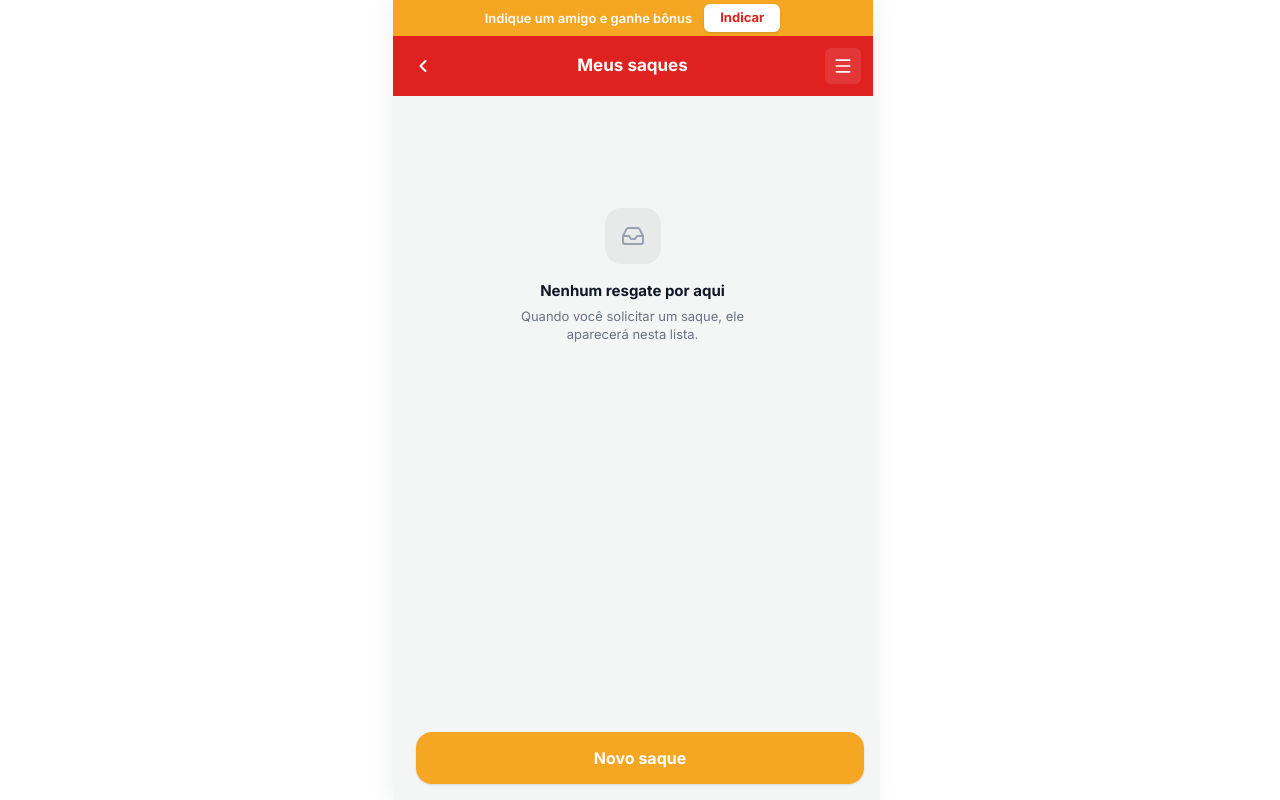
Test: Confirmar saque › falha UNAVAILABLE aparece no próprio diálogo, que segue aberto para tentar de novo
Click the button "Novo saque" at (640,758), box [416,732,864,784]
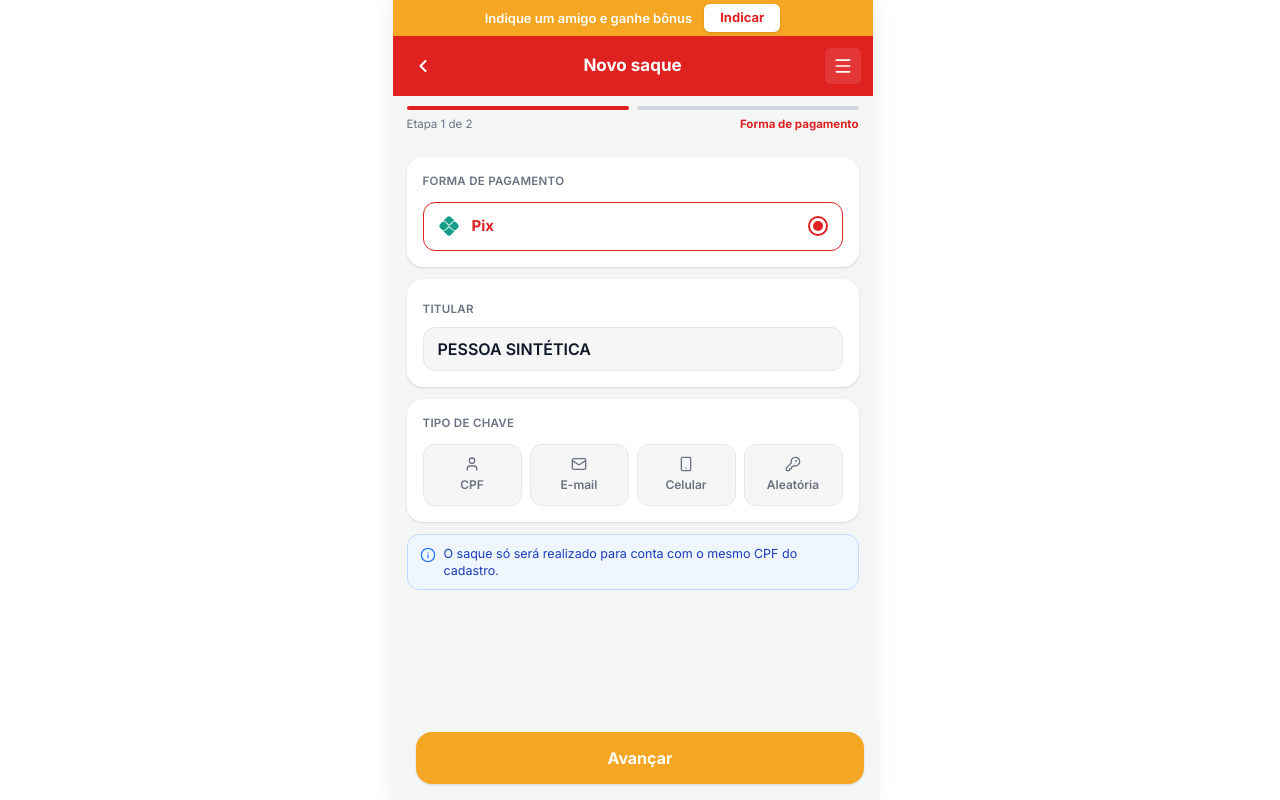
Click the radio button labelled "CPF" at (472,475), box [422,444,522,506]
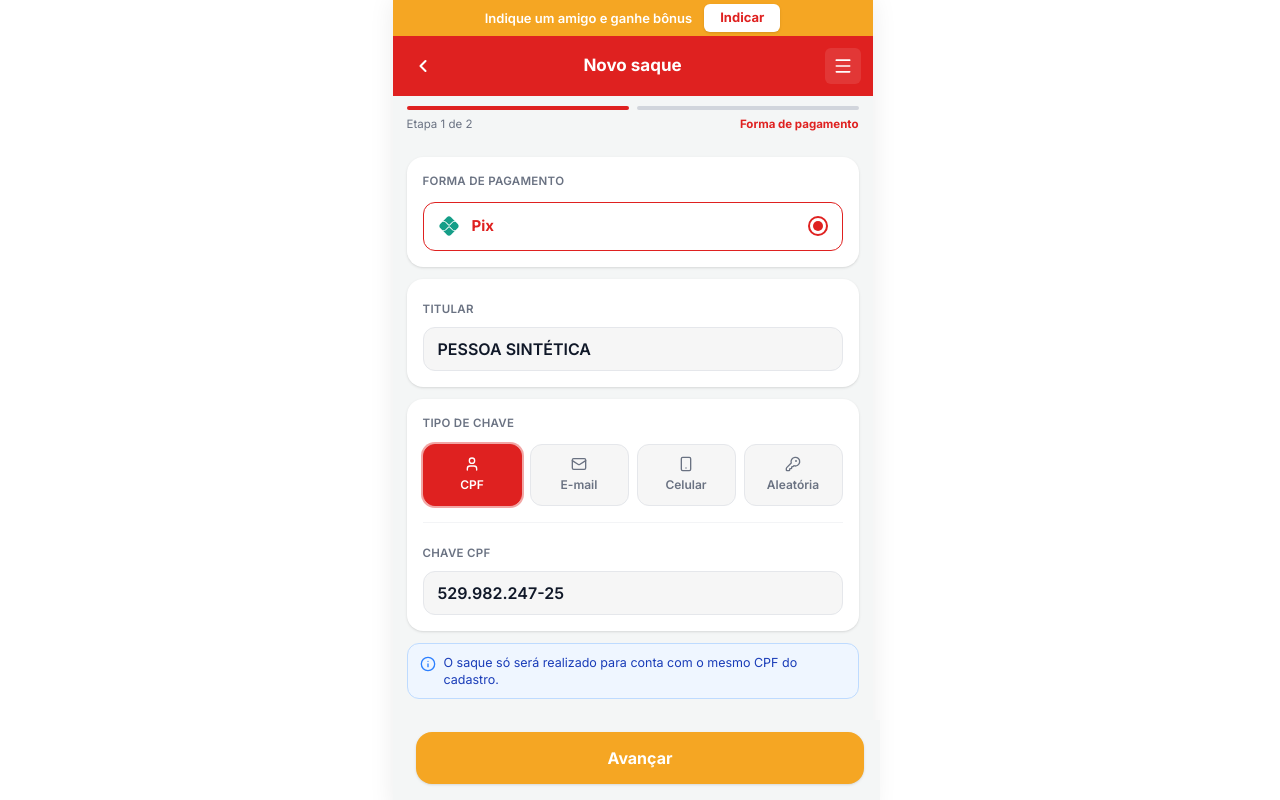
Click the button "Avançar" at (640,758), box [416,732,864,784]
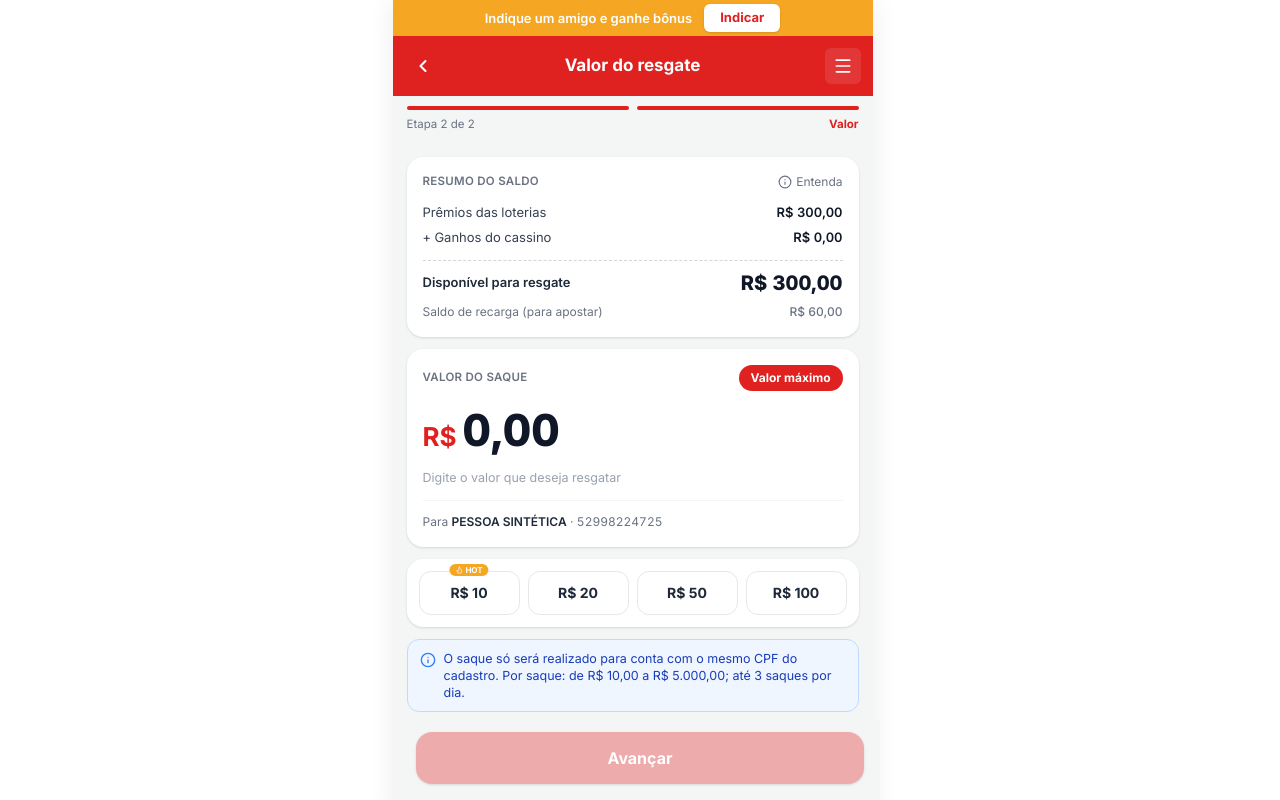
Click the button named "Sacar R$ 50,00" at (687,592), box [636,570,738,614]
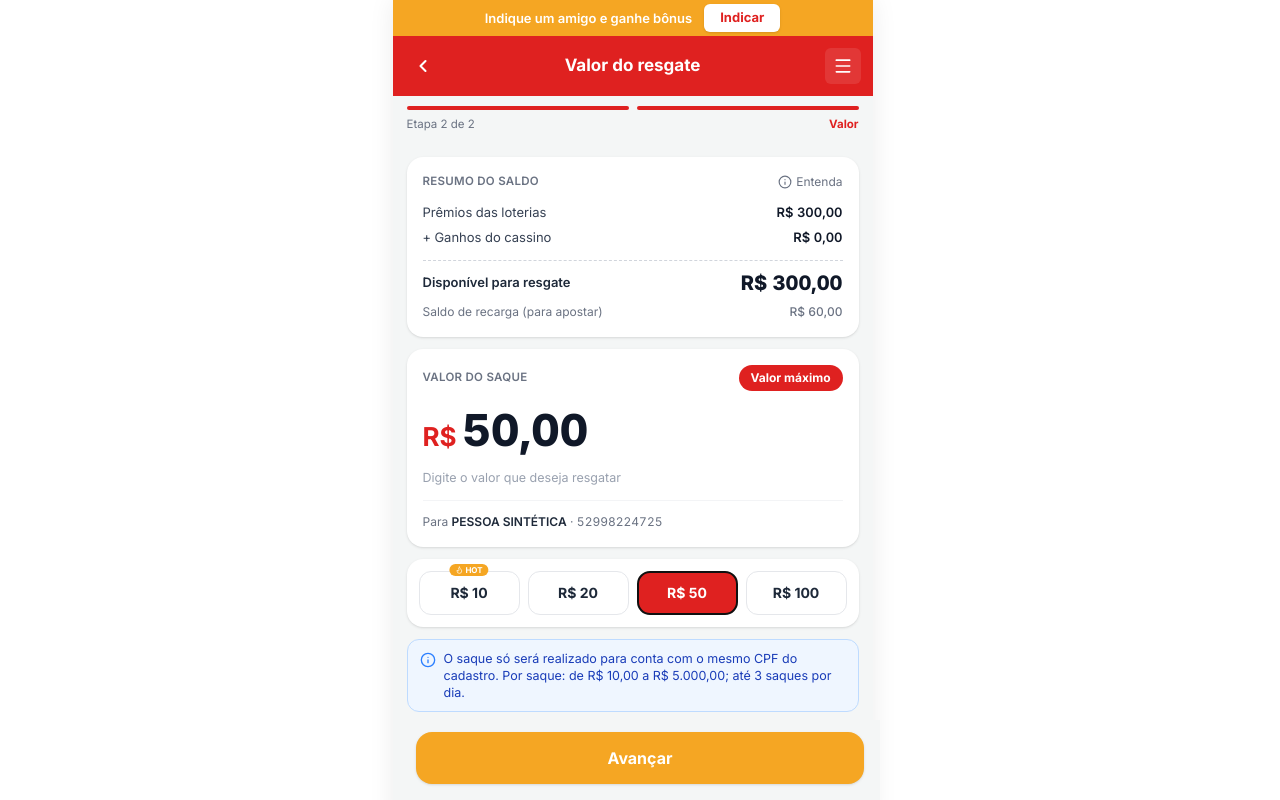
Click the button "Avançar" at (640,758), box [416,732,864,784]
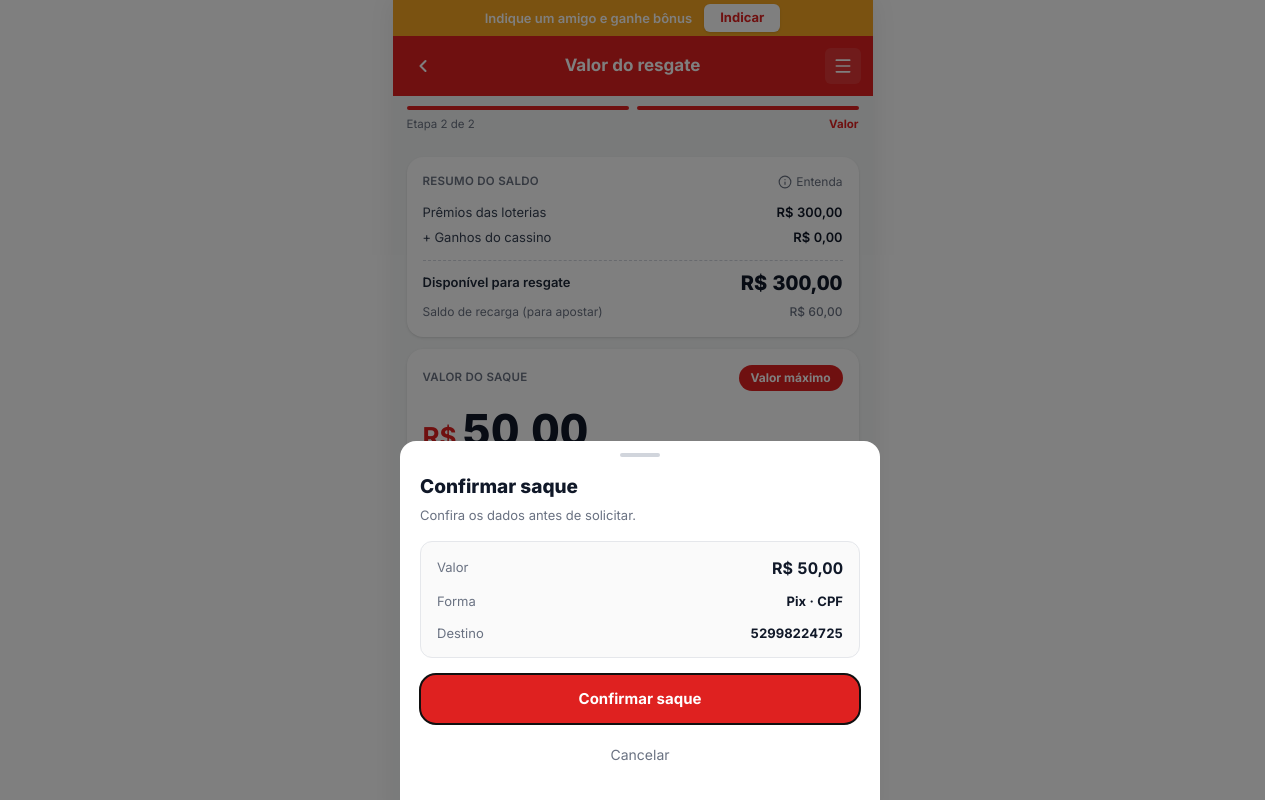
Click the button "Confirmar saque" at (640,699), box [420,674,860,724]
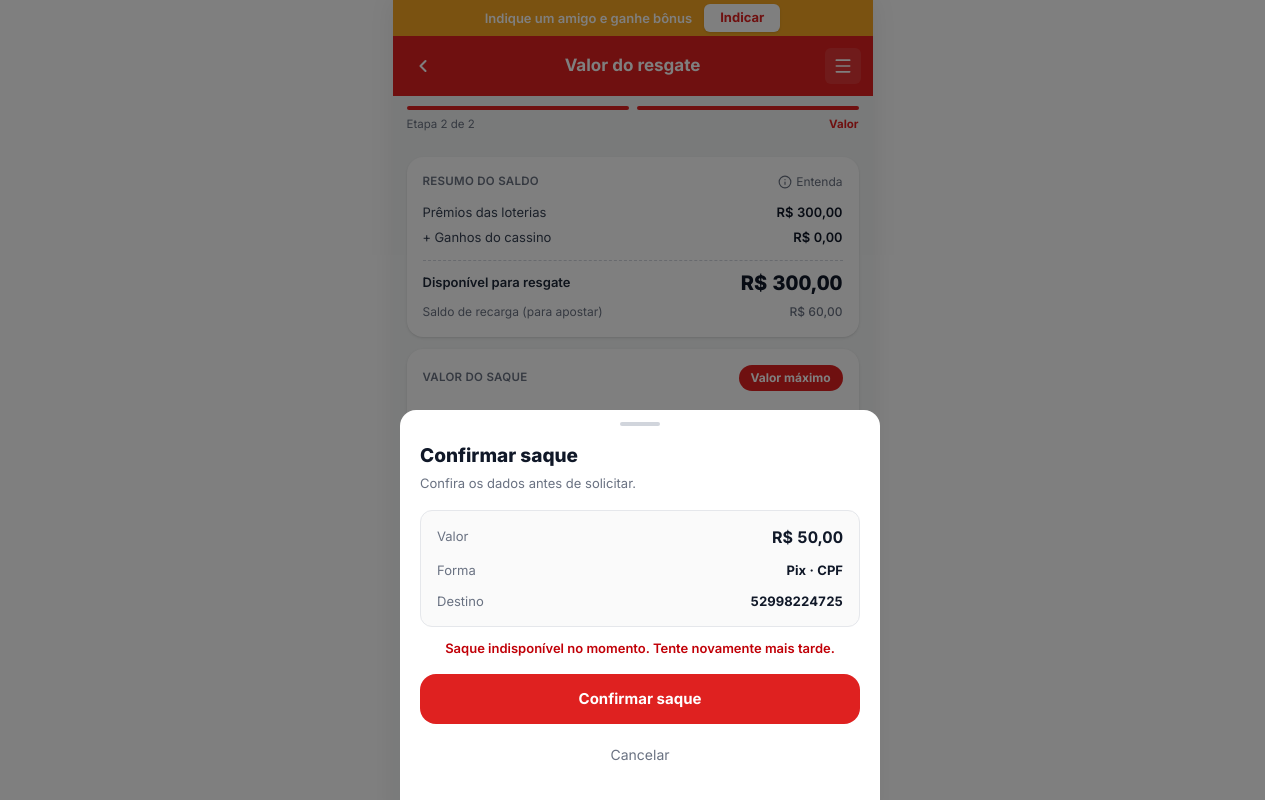
Expected: the message reads "Saque indisponível no momento. Tente novamente mais tarde.", [445,640,835,656]
